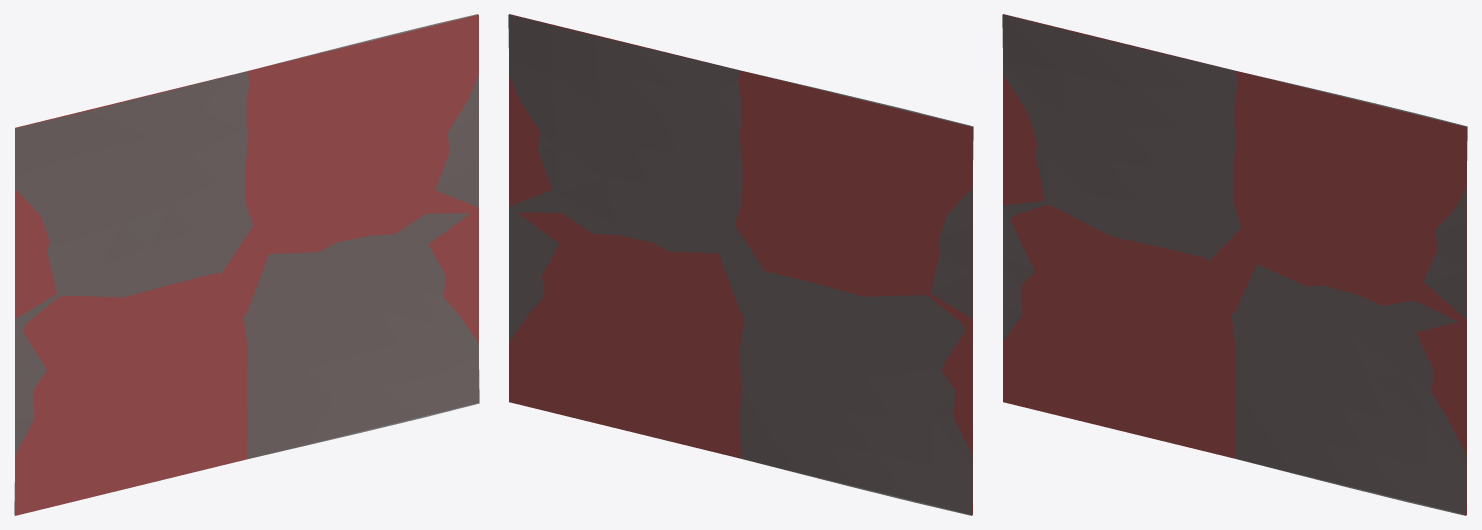
File: warping-rectangle-80-100-101.glb
3 renders of one model, left to right at view 1: azimuth 30°, elevation 25°; view 2: azimuth 150°, elevation 25°; view 3: azimuth 330°, elevation 25°, orthographic.
Parts seen in each view (by area): view 1: undeformed cross-section, cross-section with warping; view 2: undeformed cross-section, cross-section with warping; view 3: undeformed cross-section, cross-section with warping.
Boxes of the visible parts, bbox=[...] form: undeformed cross-section: bbox=[15, 14, 478, 515]; cross-section with warping: bbox=[14, 14, 479, 515]; undeformed cross-section: bbox=[509, 14, 972, 515]; cross-section with warping: bbox=[508, 14, 973, 515]; undeformed cross-section: bbox=[1003, 14, 1466, 515]; cross-section with warping: bbox=[1002, 14, 1467, 515].
Bounding box in the file's own units: 0.1 × 0.08 × 0.00109.
